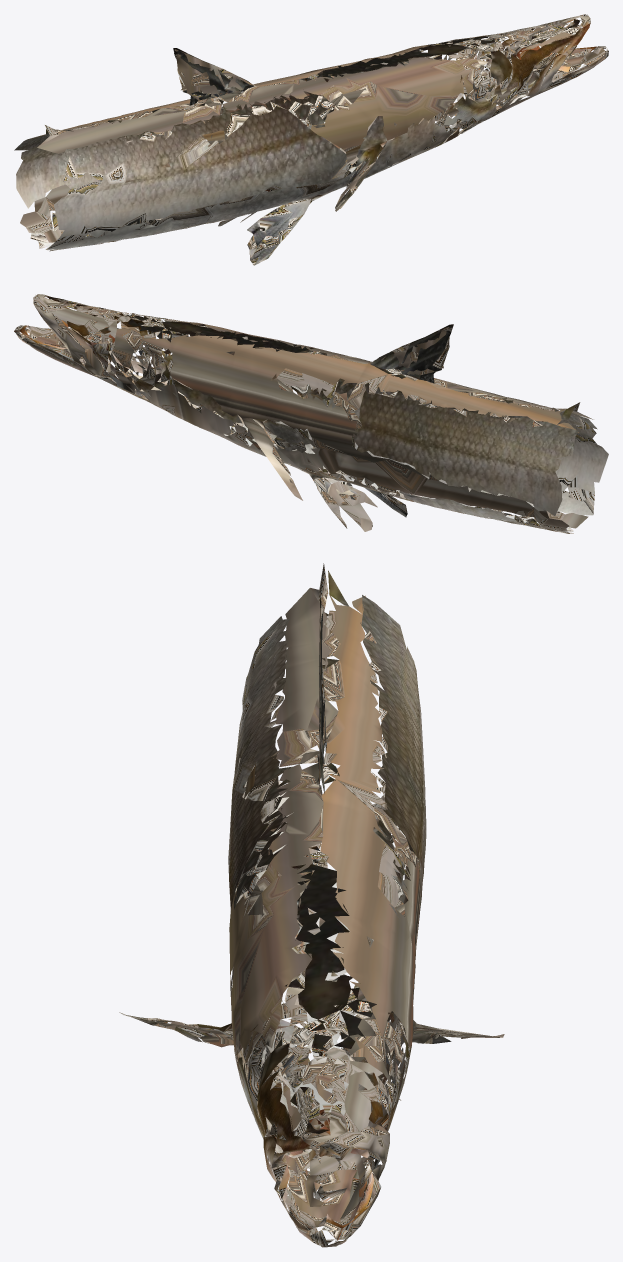
The model's file is barracuda_a.glb.
3 views of the same model, one above another, from view 1: azimuth 30°, elevation 25°; view 2: azimuth 150°, elevation 25°; view 3: azimuth 270°, elevation 25° (orthographic). The views are drawn at different scales.
Visible parts, largest first — view 1: barracuda_a; view 2: barracuda_a; view 3: barracuda_a.
Boxes of the visible parts, bbox=[...] form: barracuda_a: bbox=[14, 14, 608, 265]; barracuda_a: bbox=[14, 294, 608, 533]; barracuda_a: bbox=[119, 563, 504, 1247].
Bounding box in the file's own units: 0.8366 × 0.3066 × 0.2431.
Materials: 1 (1 with a texture image).
